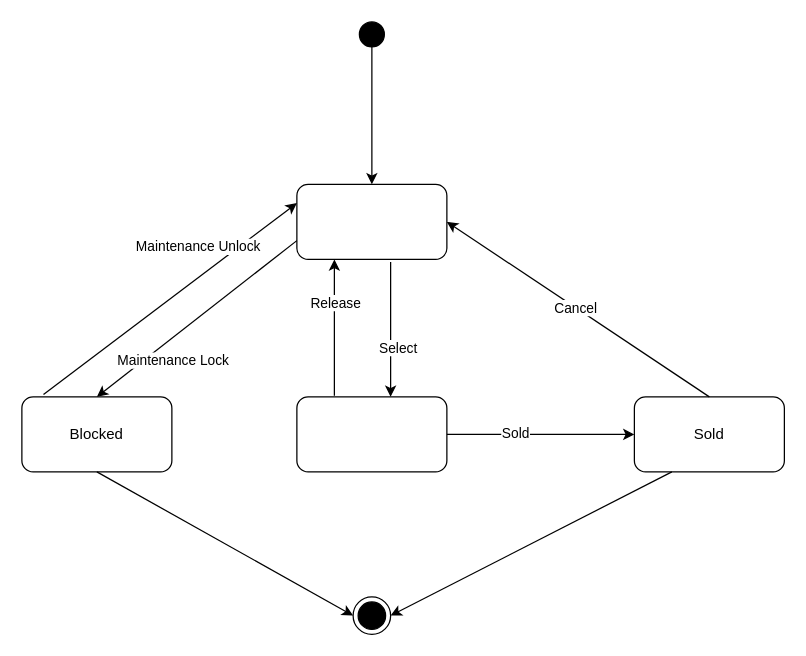
The diagram is 806 pixels wide and 656 high, and some of its shapes have lost their labels. Here are the shapes that lost their labels. From the top down, the centre of each, then its label:
point (371, 221): Available Seat
point (371, 434): Locked
